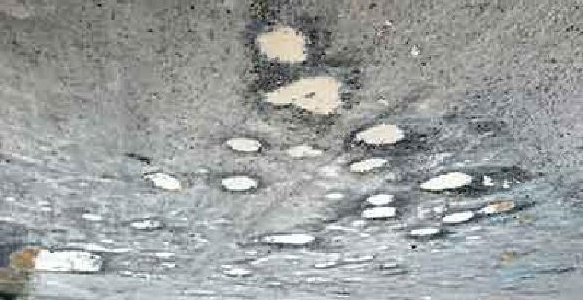pothole: (256, 76, 348, 120), (9, 247, 105, 277), (249, 24, 312, 67), (349, 121, 412, 150), (417, 171, 474, 196), (253, 232, 318, 250), (476, 199, 534, 219), (346, 155, 392, 176), (146, 170, 184, 193), (218, 175, 259, 195), (222, 136, 264, 153), (283, 143, 324, 160), (406, 226, 445, 243), (441, 210, 475, 227), (358, 208, 399, 222), (127, 219, 162, 233), (364, 193, 397, 207)
